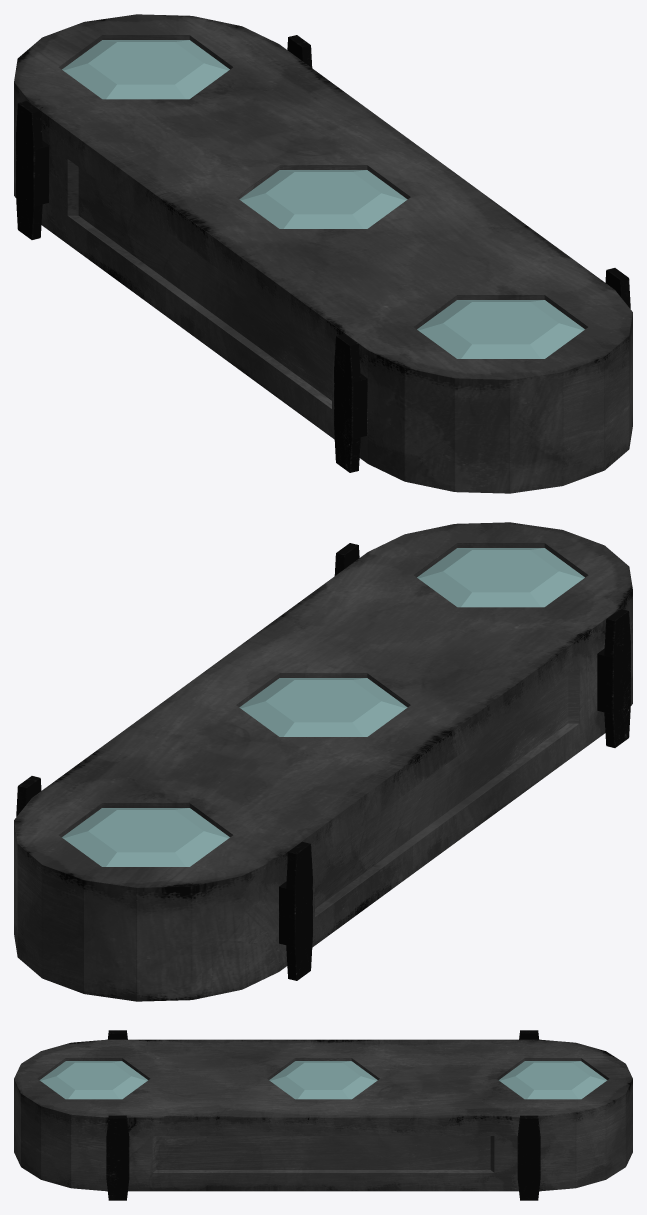
File: WallLight.fbx
The picture shows the model from 3 angles, top to bottom: view 1: azimuth 30°, elevation 25°; view 2: azimuth 150°, elevation 25°; view 3: azimuth 270°, elevation 25°; orthographic projection. The views are drawn at different scales.
Visible parts, largest first — view 1: WallLight, HexBulb1.002, HexBulb1, HexBulb1.001; view 2: WallLight, HexBulb1.001, HexBulb1, HexBulb1.002; view 3: WallLight, HexBulb1, HexBulb1.001, HexBulb1.002.
Part boxes in pixels (left/top/right/bottom): WallLight: left=14, top=14, right=632, bottom=493; HexBulb1.002: left=62, top=40, right=229, bottom=99; HexBulb1: left=239, top=170, right=407, bottom=228; HexBulb1.001: left=417, top=300, right=584, bottom=358; WallLight: left=14, top=522, right=632, bottom=1001; HexBulb1.001: left=417, top=548, right=584, bottom=607; HexBulb1: left=239, top=678, right=407, bottom=736; HexBulb1.002: left=62, top=808, right=229, bottom=866; WallLight: left=14, top=1030, right=632, bottom=1200; HexBulb1: left=269, top=1061, right=377, bottom=1099; HexBulb1.001: left=39, top=1061, right=147, bottom=1099; HexBulb1.002: left=499, top=1061, right=607, bottom=1099.
Size of the model in its own units: 226 by 98.19 by 671.
